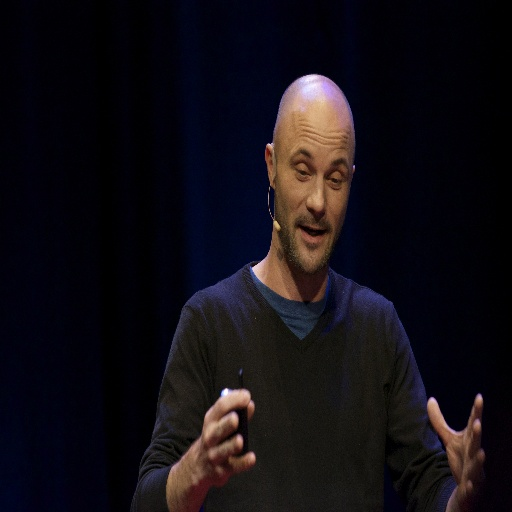hand: (425, 394, 492, 498), (194, 387, 257, 489)
